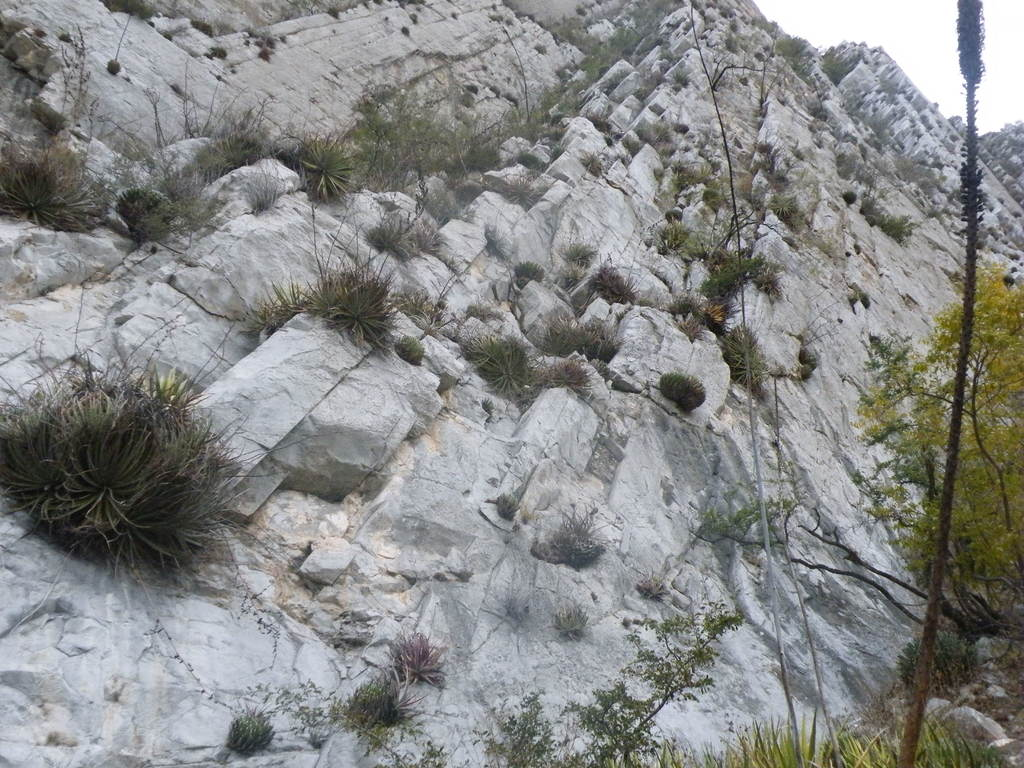Tree: (784, 268, 1023, 652)
